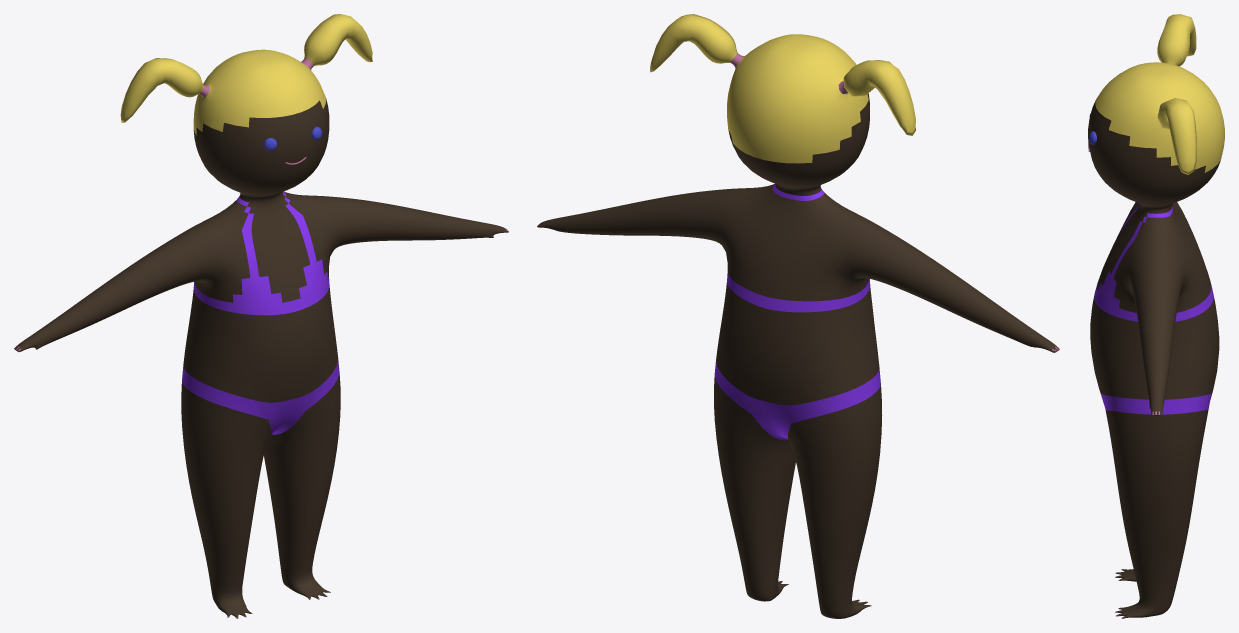
Rendered from nnnnn.glb.
3 renders of one model, left to right at view 1: azimuth 30°, elevation 25°; view 2: azimuth 150°, elevation 25°; view 3: azimuth 270°, elevation 25°, orthographic. The views are drawn at different scales.
Parts seen in each view (by area): view 1: челочечека003, Object005, Object003, Object002; view 2: челочечека003, Object005, Object002, Object003; view 3: челочечека003, Object005, Object003, Object002.
Part boxes in pixels (x1,y1,x2,y2): челочечека003: [14, 98, 508, 618]; Object005: [120, 14, 372, 135]; Object003: [193, 191, 329, 315]; Object002: [182, 359, 339, 434]; челочечека003: [537, 93, 1059, 618]; Object005: [650, 14, 915, 163]; Object002: [714, 361, 880, 440]; Object003: [727, 183, 870, 312]; челочечека003: [1088, 100, 1220, 618]; Object005: [1095, 14, 1224, 174]; Object003: [1094, 205, 1213, 321]; Object002: [1100, 392, 1212, 414].
Bounding box in the file's own units: 1.27 × 1.35 × 0.3128.
